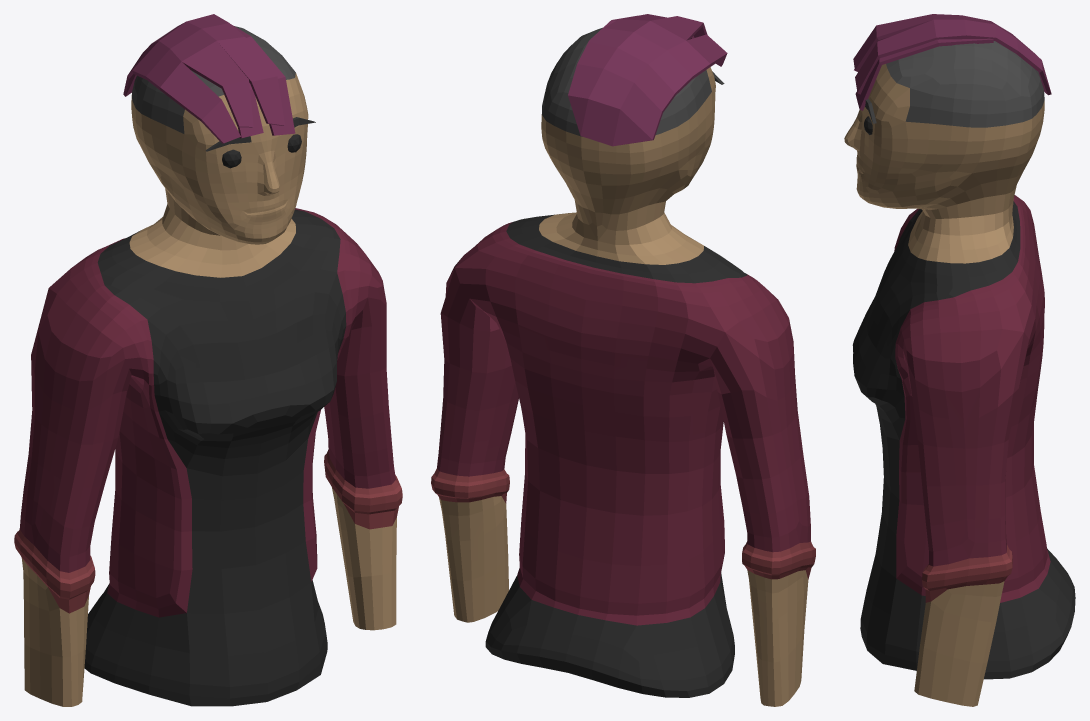
The model's file is charmodel.glb.
The picture shows the model from 3 angles, left to right: view 1: azimuth 30°, elevation 25°; view 2: azimuth 150°, elevation 25°; view 3: azimuth 270°, elevation 25°; orthographic projection. The views are drawn at different scales.
Parts seen in each view (by area): view 1: Shirt, Jacket, Face, Hair, Cuffs, Skull; view 2: Jacket, Face, Shirt, Hair, Cuffs, Skull; view 3: Jacket, Face, Shirt, Skull, Hair, Cuffs.
Part boxes in pixels (box(x1,y1,x2,y2)): Shirt: box(84, 209, 346, 706); Jacket: box(19, 208, 395, 617); Face: box(21, 73, 396, 706); Hair: box(123, 14, 295, 143); Cuffs: box(14, 449, 402, 613); Skull: box(132, 26, 295, 133); Jacket: box(437, 222, 810, 625); Face: box(439, 67, 808, 706); Shirt: box(485, 214, 747, 697); Hair: box(568, 14, 727, 146); Cuffs: box(431, 468, 815, 579); Skull: box(542, 27, 711, 136); Jacket: box(894, 195, 1050, 602); Face: box(844, 64, 1044, 706); Shirt: box(852, 201, 1075, 679); Skull: box(886, 41, 1044, 127); Hair: box(853, 14, 1051, 110); Cuffs: box(922, 545, 1012, 602).
Bounding box in the file's own units: 1.33 × 2.26 × 0.7756.
